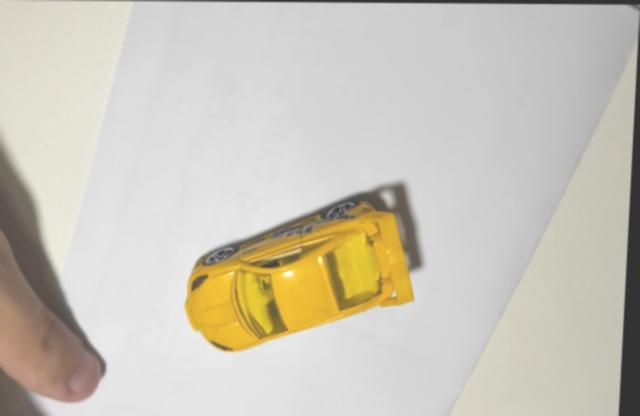07_RHLTURBO: (188, 191, 418, 350)
